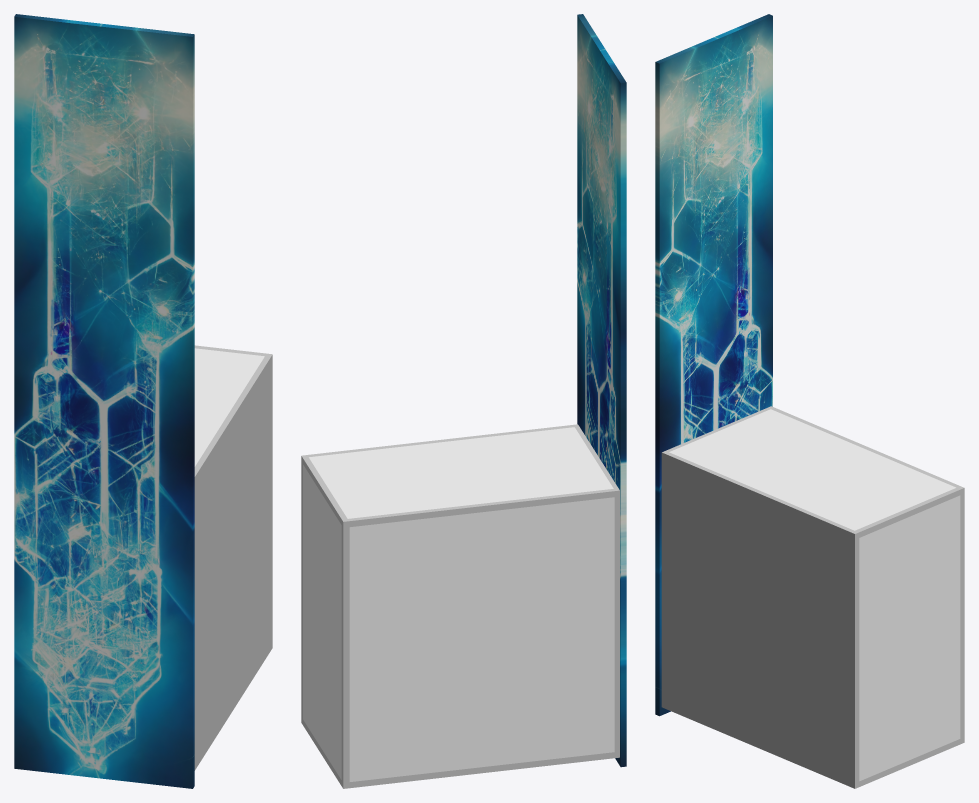
File: booth01.fbx
The picture shows the model from 3 angles, left to right: view 1: azimuth 30°, elevation 25°; view 2: azimuth 150°, elevation 25°; view 3: azimuth 270°, elevation 25°; orthographic projection. The views are drawn at different scales.
Visible parts, largest first — view 1: booth.004; view 2: booth.004; view 3: booth.004.
Boxes of the visible parts, x1,y1,x2,y2 form: booth.004: [14, 14, 272, 788]; booth.004: [301, 14, 626, 788]; booth.004: [655, 14, 964, 788].
Size of the model in its own units: 105 by 245 by 105.
Materials: 2 (2 with a texture image).
